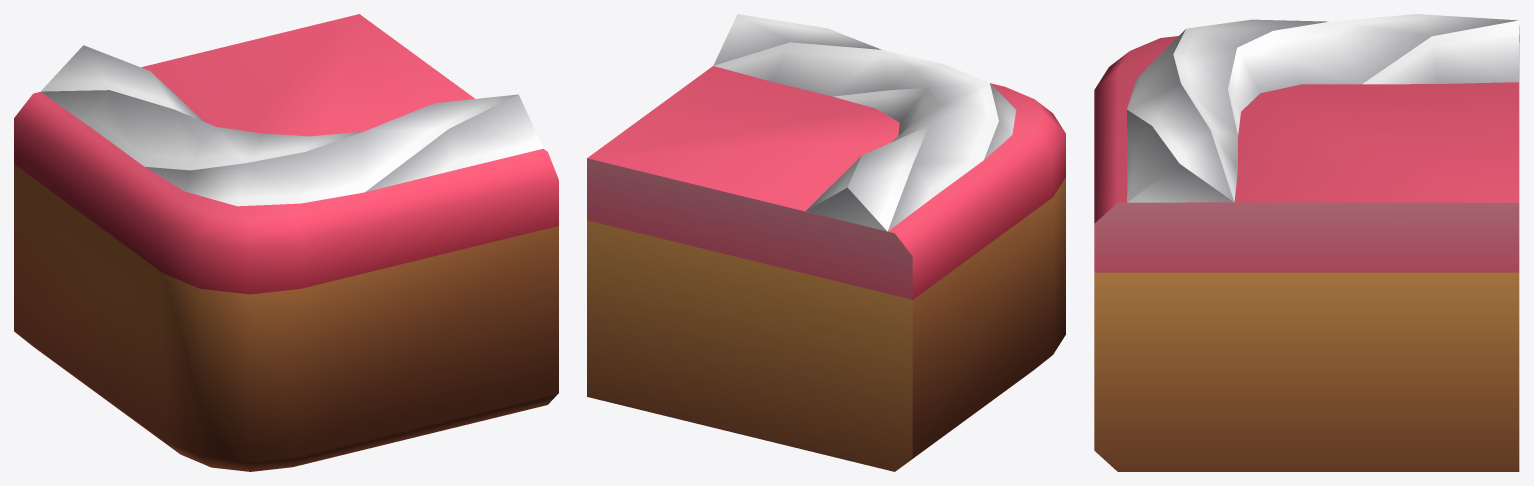
The model's file is m_SheetCake05_Slice01.fbx.
The picture shows the model from 3 angles, left to right: view 1: azimuth 30°, elevation 25°; view 2: azimuth 150°, elevation 25°; view 3: azimuth 270°, elevation 25°; orthographic projection. The views are drawn at different scales.
Parts seen in each view (by area): view 1: m_SheetCake05_Slice01; view 2: m_SheetCake05_Slice01; view 3: m_SheetCake05_Slice01.
Part boxes in pixels (x1,y1,x2,y2): m_SheetCake05_Slice01: (14, 14, 558, 471); m_SheetCake05_Slice01: (587, 14, 1065, 471); m_SheetCake05_Slice01: (1094, 14, 1519, 471).
Size of the model in its own units: 10.01 by 8 by 10.01.
